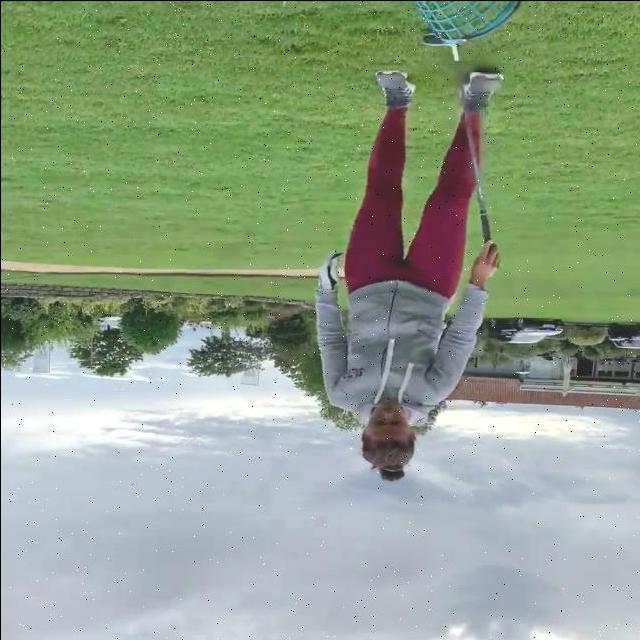golf club-handle: (422, 33, 488, 241)
golf club-head: (422, 33, 451, 46)
